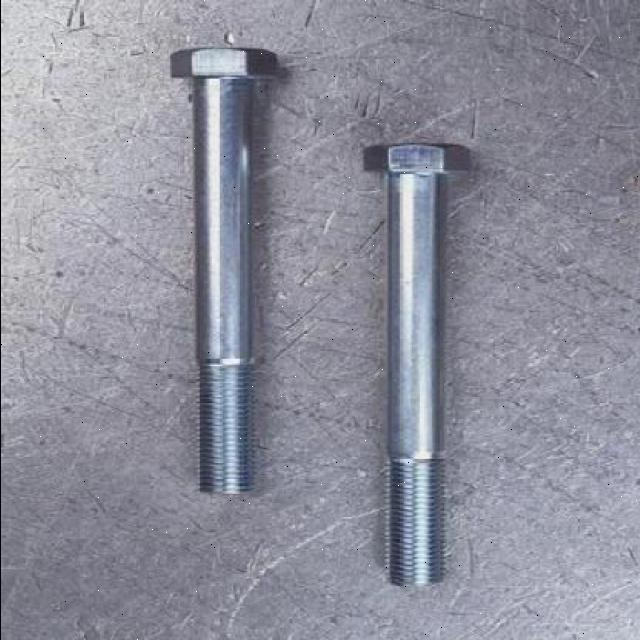Bolt: (169, 44, 280, 500), (360, 138, 471, 592)
